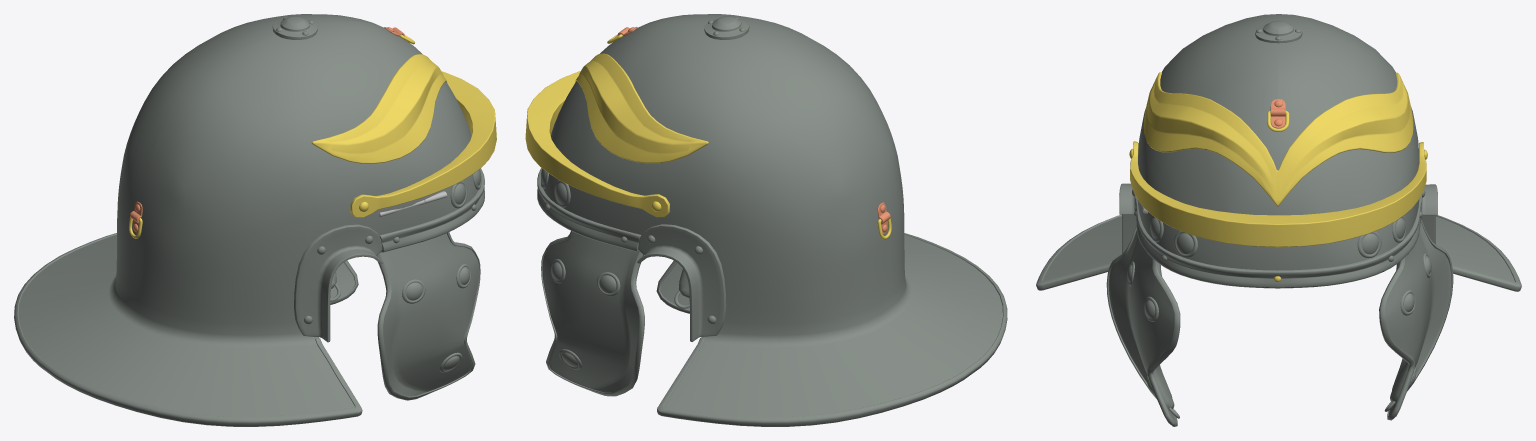
File: roman_helmet.fbx
3 views of the same model, side by side, from view 1: azimuth 30°, elevation 25°; view 2: azimuth 150°, elevation 25°; view 3: azimuth 270°, elevation 25° (orthographic).
Parts seen in each view (by area): view 1: Inner_Cap; view 2: Inner_Cap; view 3: Inner_Cap.
Boxes of the visible parts, box(x1,y1,x2,y2) form: Inner_Cap: box(14, 14, 496, 426); Inner_Cap: box(525, 14, 1007, 426); Inner_Cap: box(1036, 14, 1521, 426).
Size of the model in its own units: 72.73 by 57.15 by 71.24.
